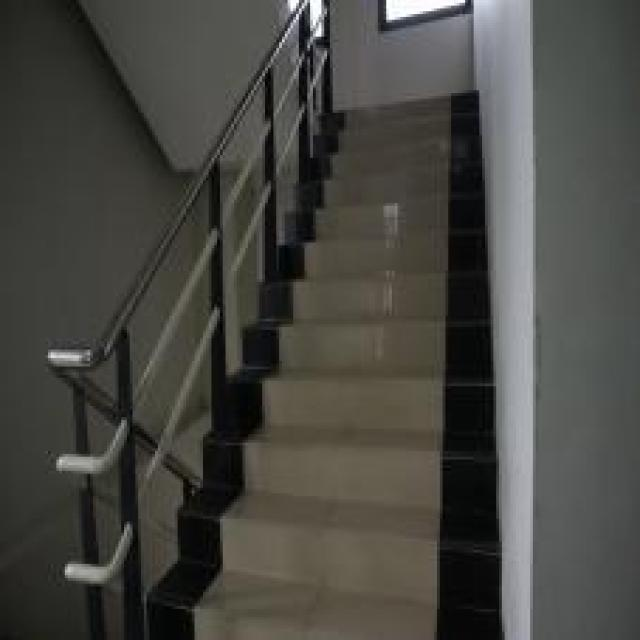upstair: (289, 100, 486, 613)
